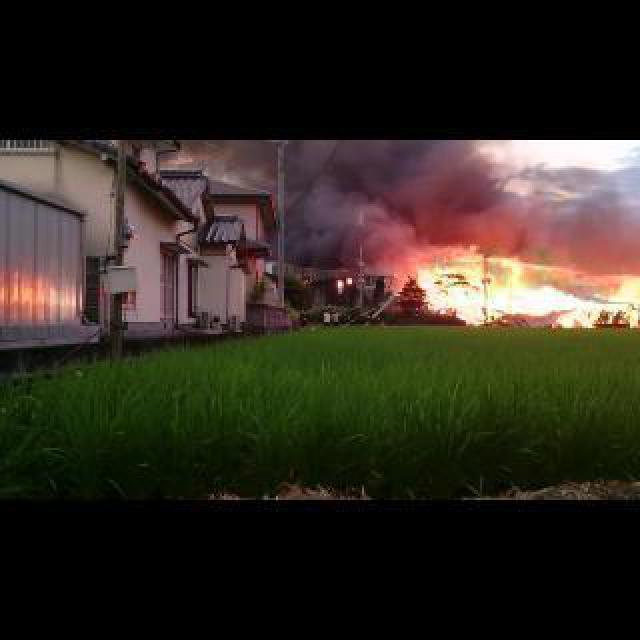Fire: (410, 248, 638, 324)
Smoke: (271, 137, 638, 266)
